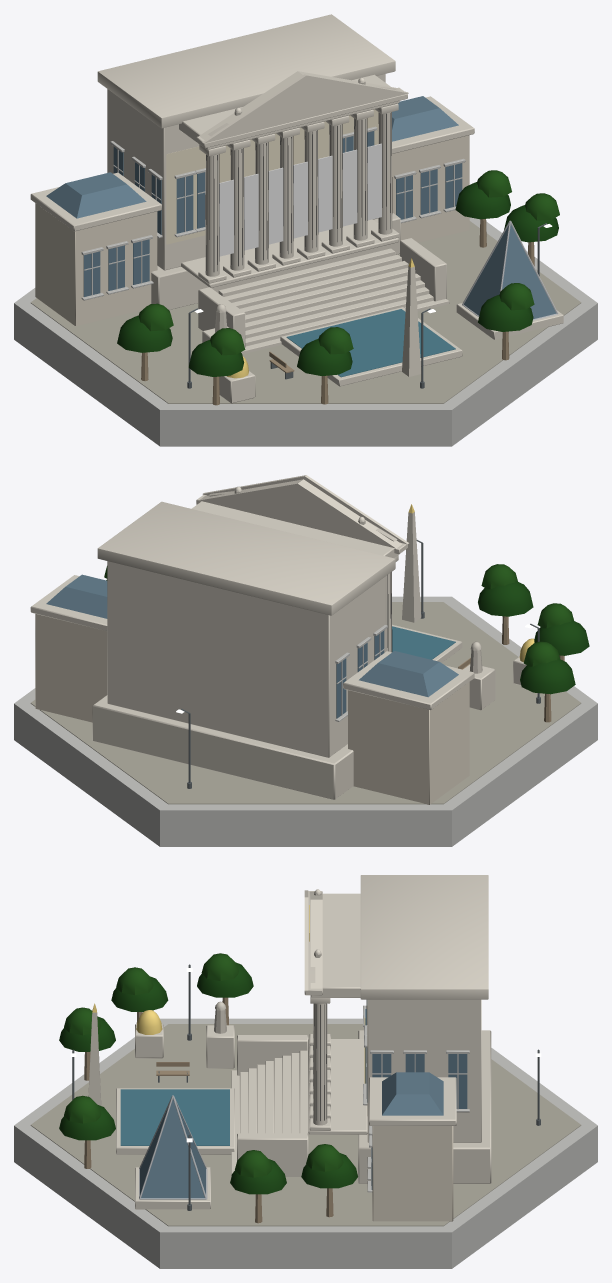
Rendered from museum.glb.
3 views of the same model, one above another, from view 1: azimuth 30°, elevation 25°; view 2: azimuth 150°, elevation 25°; view 3: azimuth 270°, elevation 25° (orthographic).
Parts seen in each view (by area): view 1: stone, wall_concrete, pavers, glass, leaf, banner, plaster, dark, wood, steel_dark, metal; view 2: stone, wall_concrete, pavers, glass, leaf, steel_dark, wood; view 3: stone, wall_concrete, pavers, glass, leaf, wood, metal, steel_dark, gold, dark.
Boxes of the visible parts, box(x1,y1,x2,y2) form: stone: box(30, 14, 563, 403); wall_concrete: box(14, 126, 597, 446); pavers: box(30, 221, 581, 403); glass: box(46, 96, 556, 377); leaf: box(117, 170, 559, 376); banner: box(219, 143, 381, 256); plaster: box(166, 109, 378, 244); dark: box(205, 112, 392, 271); wood: box(141, 219, 534, 405); steel_dark: box(187, 223, 546, 388); metal: box(462, 220, 558, 320); stone: box(30, 475, 526, 804); wall_concrete: box(14, 596, 597, 846); pavers: box(30, 602, 581, 804); glass: box(46, 574, 458, 718); leaf: box(104, 564, 589, 694); steel_dark: box(181, 540, 540, 788); wood: box(458, 616, 564, 722); stone: box(88, 875, 491, 1221); wall_concrete: box(14, 999, 597, 1268); pavers: box(30, 1024, 581, 1226); glass: box(120, 1000, 467, 1198); leaf: box(59, 953, 357, 1194); wood: box(84, 997, 333, 1223); metal: box(139, 1095, 207, 1199); steel_dark: box(72, 964, 540, 1210); gold: box(92, 905, 365, 1083); dark: box(313, 1004, 367, 1120).
Bounding box in the file's own units: 21.94 × 12.3 × 24.6.
